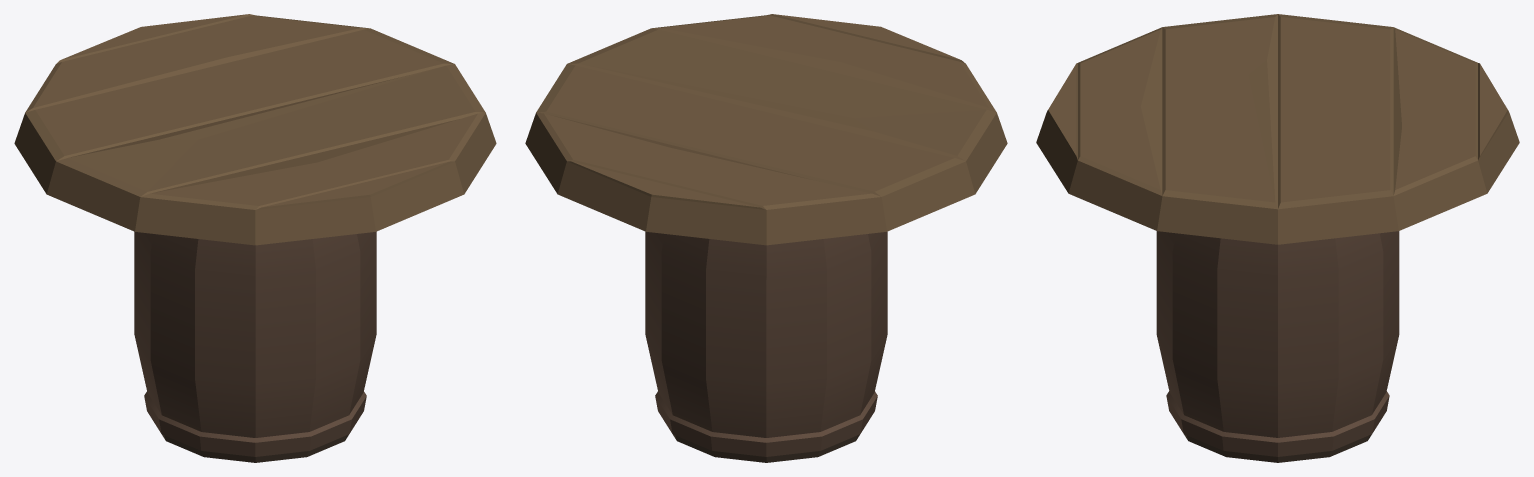
File: Table_2.fbx
3 renders of one model, left to right at view 1: azimuth 30°, elevation 25°; view 2: azimuth 150°, elevation 25°; view 3: azimuth 270°, elevation 25°, orthographic.
Visible parts, largest first — view 1: pCylinder278; view 2: pCylinder278; view 3: pCylinder278.
Boxes of the visible parts, x1,y1,x2,y2 form: pCylinder278: (14,14,496,462); pCylinder278: (525,14,1007,462); pCylinder278: (1036,14,1519,462).
Bounding box in the file's own units: 125 × 88.32 × 125.
